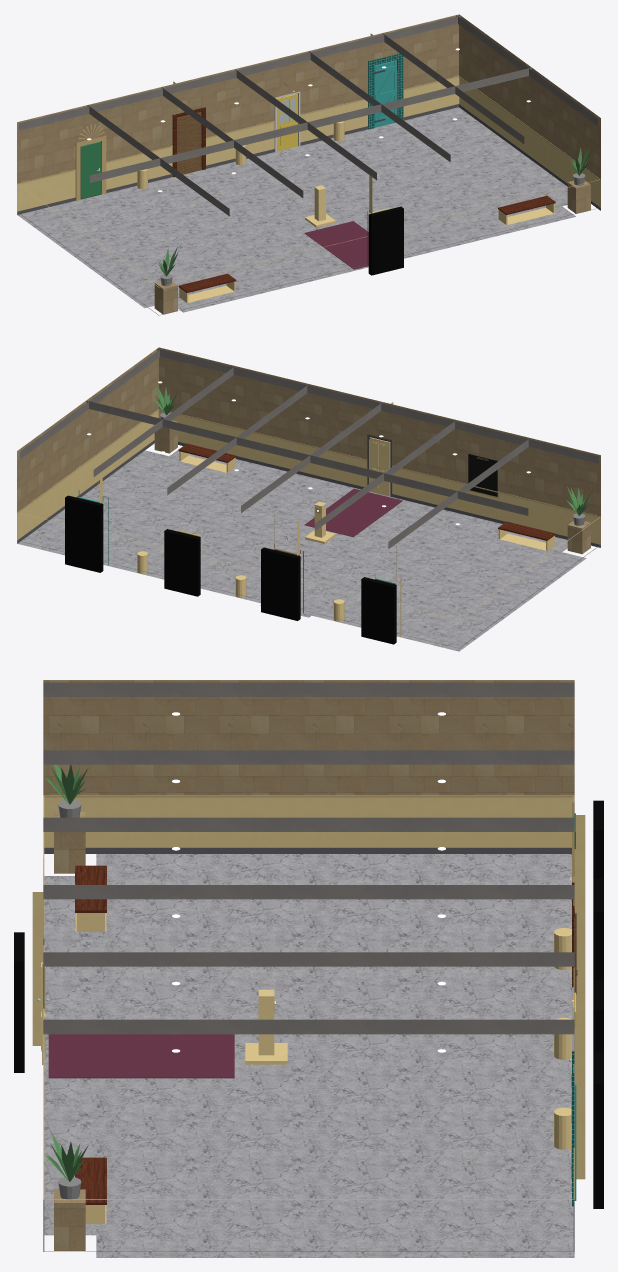
Rendered from rdwe_elevator_lobby.glb.
3 views of the same model, one above another, from view 1: azimuth 30°, elevation 25°; view 2: azimuth 150°, elevation 25°; view 3: azimuth 270°, elevation 25° (orthographic). The views are drawn at different scales.
Visible parts, largest first — view 1: Marble_Floor, Marble_Wall, Ceiling_White, Steel_Wall, Steel, Brass, Void_Black, Trim_Dark, Rug_Red, Wood_Dark, DoorLeaf_lift_4, DoorLeaf_lift_2 (+4 smaller); view 2: Marble_Floor, Marble_Wall, Ceiling_White, Steel_Wall, Void_Black, Steel, Trim_Dark, Rug_Red, Brass, Wood_Dark, DoorLeaf_crossroads, Dials (+1 smaller); view 3: Marble_Floor, Marble_Wall, Ceiling_White, Steel_Wall, Rug_Red, Void_Black, Steel, Trim_Dark, Brass, Wood_Dark, Plant_Leaf, Pot_Clay.
Boxes of the visible parts, x1,y1,x2,y2 form: Marble_Floor: (17, 107, 575, 312); Marble_Wall: (17, 14, 600, 314); Ceiling_White: (18, 15, 597, 216); Steel_Wall: (17, 15, 600, 214); Steel: (137, 121, 554, 303); Brass: (17, 76, 600, 287); Void_Black: (101, 60, 403, 275); Trim_Dark: (17, 104, 600, 315); Rug_Red: (304, 221, 368, 269); Wood_Dark: (172, 107, 555, 292); DoorLeaf_lift_4: (374, 60, 397, 127); DoorLeaf_lift_2: (177, 112, 201, 174); Marble_Floor: (17, 446, 586, 651); Marble_Wall: (17, 347, 600, 577); Ceiling_White: (20, 348, 599, 549); Steel_Wall: (17, 348, 600, 555); Void_Black: (65, 436, 396, 644); Steel: (137, 451, 554, 621); Trim_Dark: (17, 434, 600, 648); Rug_Red: (304, 488, 402, 537); Brass: (17, 409, 600, 636); Wood_Dark: (178, 443, 555, 613); DoorLeaf_crossroads: (369, 437, 390, 496); Dials: (468, 454, 497, 496); Marble_Floor: (44, 854, 574, 1257); Marble_Wall: (43, 680, 574, 1250); Ceiling_White: (43, 682, 574, 1034); Steel_Wall: (32, 680, 585, 1179); Rug_Red: (48, 1034, 234, 1078); Void_Black: (14, 800, 603, 1208); Steel: (75, 913, 571, 1223); Trim_Dark: (43, 847, 574, 1251); Brass: (43, 795, 574, 1199); Wood_Dark: (75, 865, 574, 1204); Plant_Leaf: (45, 764, 88, 1181); Pot_Clay: (58, 799, 81, 1199).
Size of the model in its own units: 18.24 by 3.65 by 11.1.
Materials: 26 (11 with a texture image).
